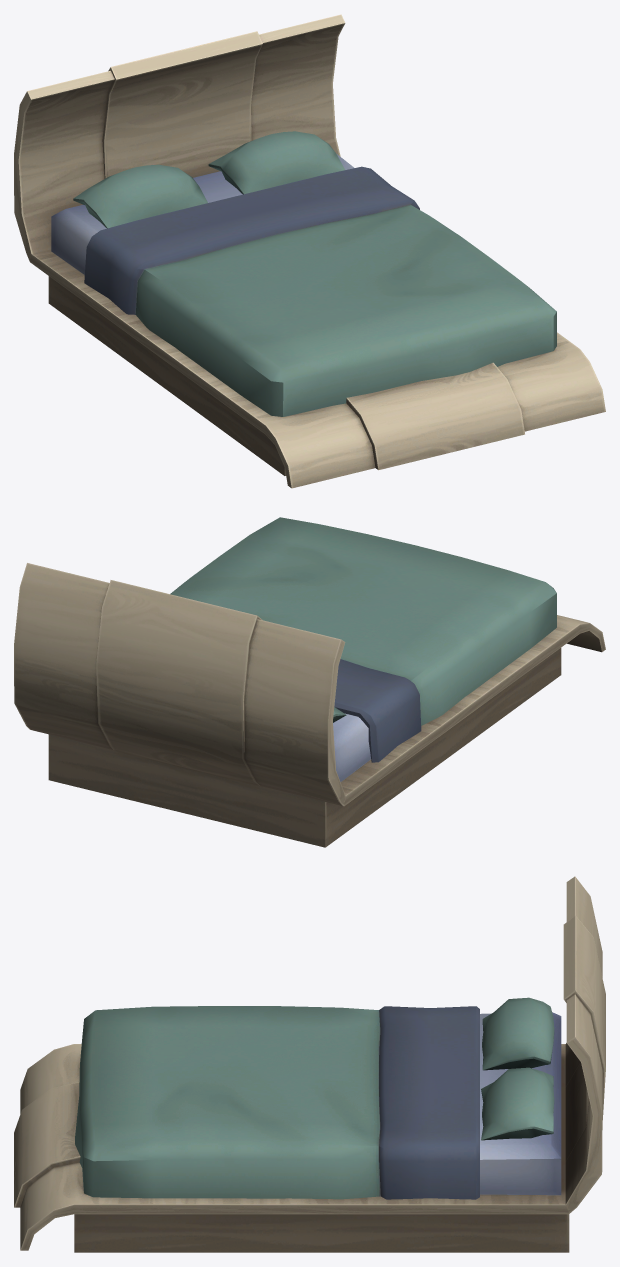
Rendered from ty_chuang02.fbx.
The picture shows the model from 3 angles, top to bottom: view 1: azimuth 30°, elevation 25°; view 2: azimuth 150°, elevation 25°; view 3: azimuth 270°, elevation 25°; orthographic projection. The views are drawn at different scales.
Visible parts, largest first — view 1: ty_chuang02, ty_chuang02_1; view 2: ty_chuang02_1, ty_chuang02; view 3: ty_chuang02, ty_chuang02_1.
Part boxes in pixels (bbox=[...]): ty_chuang02: bbox=[51, 131, 556, 416]; ty_chuang02_1: bbox=[14, 14, 605, 488]; ty_chuang02_1: bbox=[14, 563, 605, 847]; ty_chuang02: bbox=[170, 517, 556, 781]; ty_chuang02: bbox=[75, 997, 561, 1199]; ty_chuang02_1: bbox=[14, 876, 605, 1252].
Bounding box in the file's own units: 107 × 71.22 × 167.
Materials: 2 (2 with a texture image).
